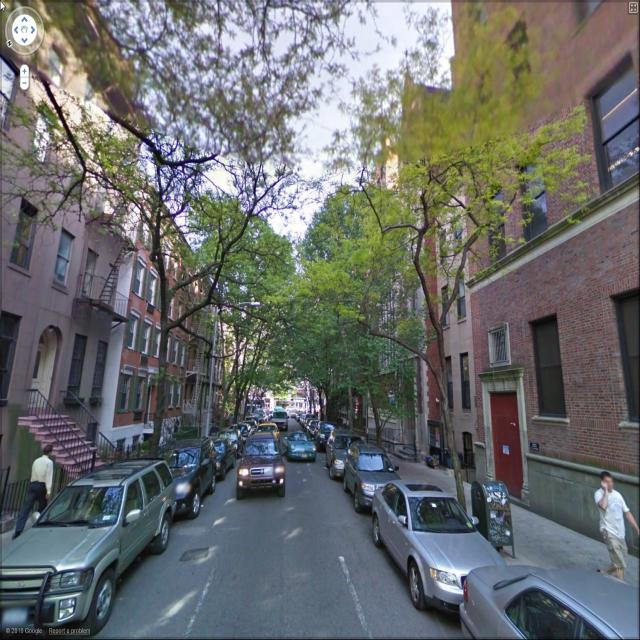b_2: (447, 0, 640, 552), (1, 32, 170, 481), (382, 77, 461, 472), (114, 173, 209, 443), (445, 177, 487, 496), (193, 271, 267, 438)
